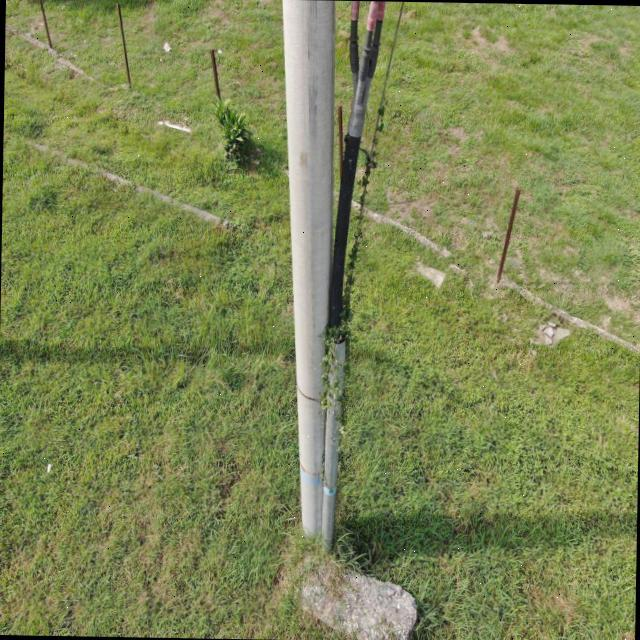critical vegetation: (314, 84, 393, 507)
